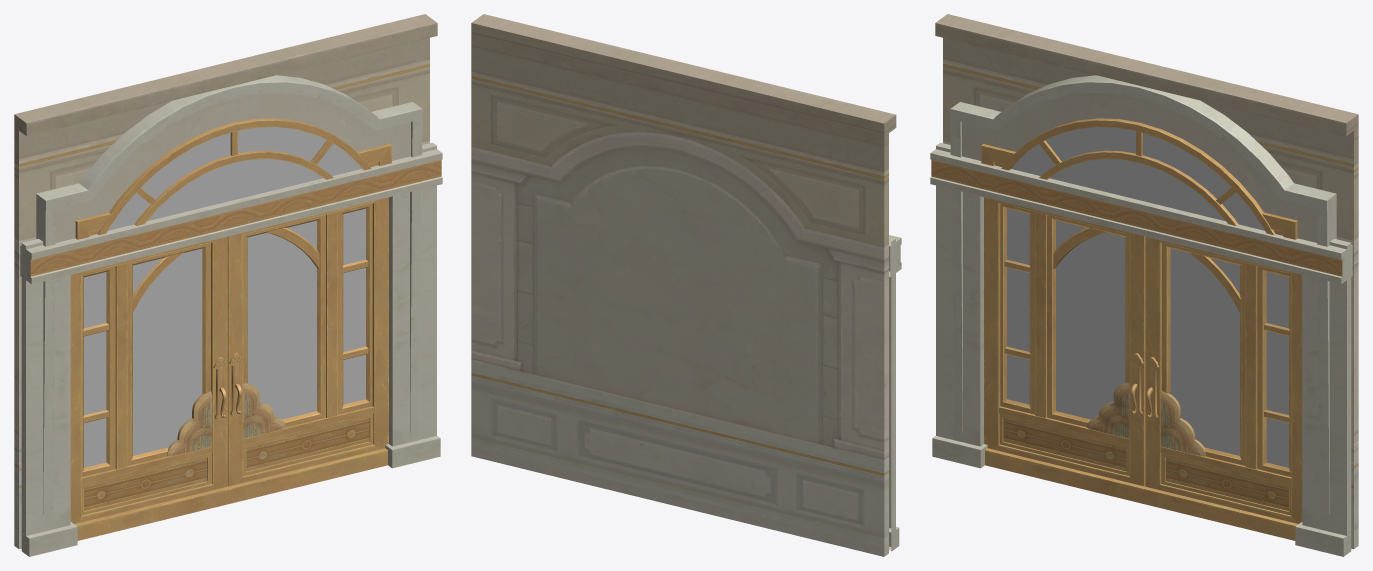
File: Homeworld_Interior_Fd_Room_Wall_07_Vo.fbx
3 views of the same model, side by side, from view 1: azimuth 30°, elevation 25°; view 2: azimuth 150°, elevation 25°; view 3: azimuth 330°, elevation 25° (orthographic).
Parts seen in each view (by area): view 1: Homeworld_Interior_Fd_Room_Wall_07_Vo; view 2: Homeworld_Interior_Fd_Room_Wall_07_Vo; view 3: Homeworld_Interior_Fd_Room_Wall_07_Vo.
Boxes of the visible parts, bbox=[...] form: Homeworld_Interior_Fd_Room_Wall_07_Vo: bbox=[14, 14, 442, 556]; Homeworld_Interior_Fd_Room_Wall_07_Vo: bbox=[471, 14, 901, 556]; Homeworld_Interior_Fd_Room_Wall_07_Vo: bbox=[930, 14, 1358, 556].
Bounding box in the file's own units: 5 × 5.02 × 0.365.
